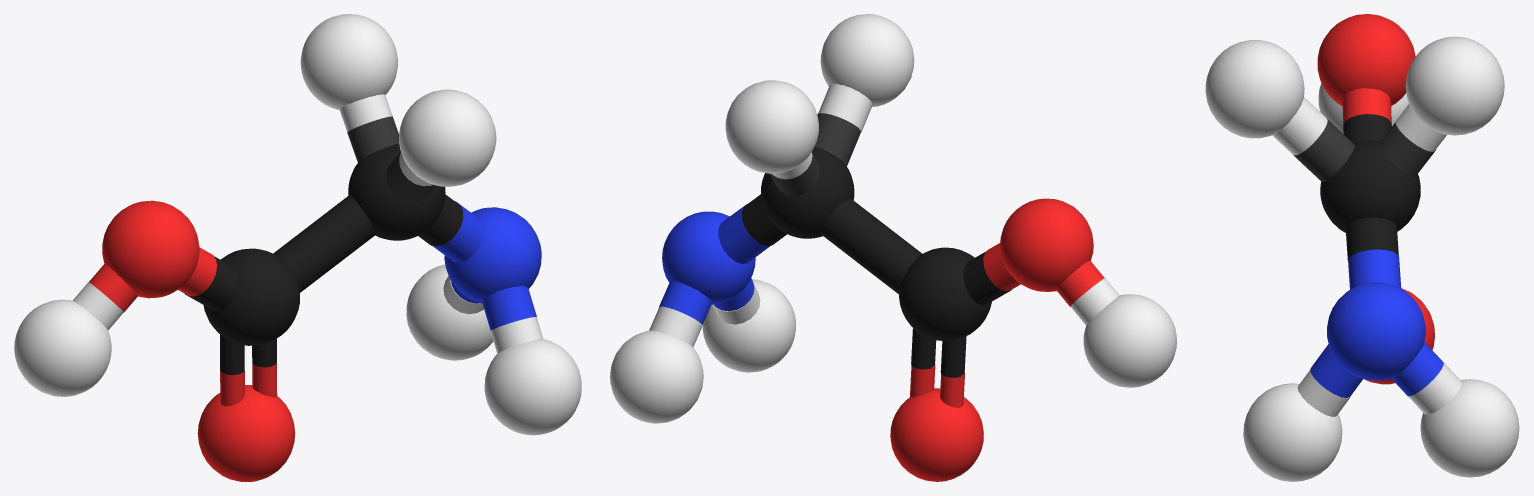
The model's file is AminoAcidsss.fbx.
3 views of the same model, side by side, from view 1: azimuth 30°, elevation 25°; view 2: azimuth 150°, elevation 25°; view 3: azimuth 270°, elevation 25° (orthographic). The views are drawn at different scales.
Visible parts, largest first — view 1: Sphere102, Sphere109, Sphere105, Sphere106, Sphere104, Sphere101, Sphere100, Sphere107, Sphere108, Sphere103, Cylinder215, Cylinder223 (+15 smaller); view 2: Sphere104, Sphere108, Sphere105, Sphere106, Sphere101, Sphere102, Sphere100, Sphere107, Sphere109, Cylinder215, Sphere103, Cylinder212 (+15 smaller); view 3: Sphere104, Sphere102, Sphere107, Sphere108, Sphere109, Sphere106, Sphere103, Cylinder212, Cylinder219, Cylinder218, Cylinder213, Cylinder214 (+9 smaller).
Part boxes in pixels (box(x1,y1,x2,y2)): Sphere102: box(399, 89, 496, 186); Sphere109: box(484, 339, 581, 435); Sphere105: box(14, 299, 111, 396); Sphere106: box(102, 200, 199, 298); Sphere104: box(300, 14, 397, 109); Sphere101: box(197, 385, 295, 481); Sphere100: box(203, 248, 299, 345); Sphere107: box(444, 207, 541, 303); Sphere108: box(406, 264, 493, 360); Sphere103: box(348, 144, 445, 240); Cylinder215: box(273, 195, 375, 292); Cylinder223: box(482, 286, 536, 330); Sphere104: box(725, 80, 818, 173); Sphere108: box(610, 330, 703, 423); Sphere105: box(1083, 294, 1176, 387); Sphere106: box(1000, 198, 1093, 291); Sphere101: box(890, 388, 983, 481); Sphere102: box(820, 14, 914, 106); Sphere100: box(899, 247, 991, 340); Sphere107: box(662, 211, 755, 304); Sphere109: box(702, 279, 795, 372); Cylinder215: box(820, 199, 921, 294); Sphere103: box(761, 146, 854, 238); Cylinder212: box(814, 113, 860, 166); Sphere104: box(1405, 36, 1504, 135); Sphere102: box(1205, 40, 1304, 138); Sphere107: box(1327, 282, 1425, 380); Sphere108: box(1420, 379, 1519, 477); Sphere109: box(1243, 383, 1342, 481); Sphere106: box(1317, 14, 1415, 106); Sphere103: box(1320, 140, 1418, 232); Cylinder212: box(1293, 119, 1354, 181); Cylinder219: box(1348, 249, 1401, 289); Cylinder218: box(1345, 217, 1398, 260); Cylinder213: box(1272, 97, 1327, 155); Cylinder214: box(1378, 122, 1436, 176).
Size of the model in its own units: 36.52 by 26.55 by 18.58.
